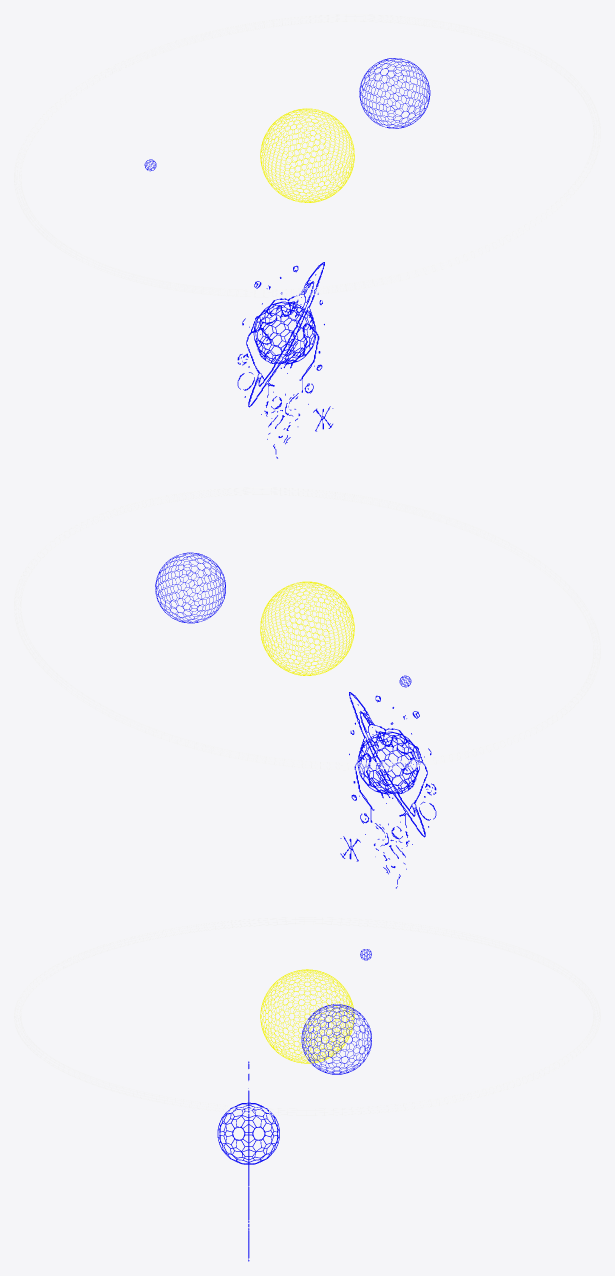
3 views of the same model, one above another, from view 1: azimuth 30°, elevation 25°; view 2: azimuth 150°, elevation 25°; view 3: azimuth 270°, elevation 25° (orthographic).
Size of the model in its own units: 9.96 by 6.1 by 10.01.
